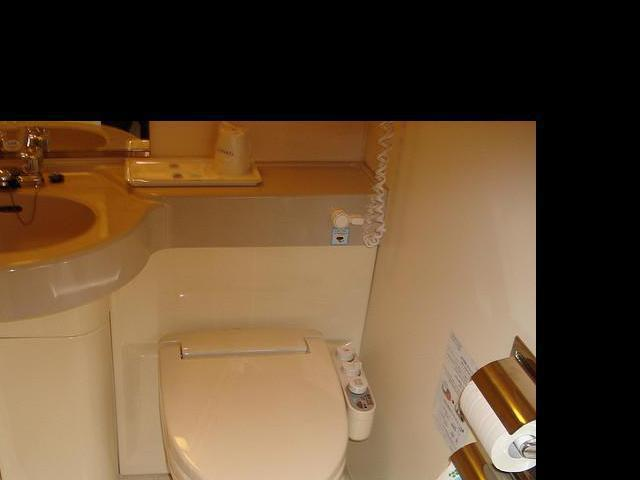Bote de Basura: (0, 129, 153, 326), (0, 294, 123, 480)
